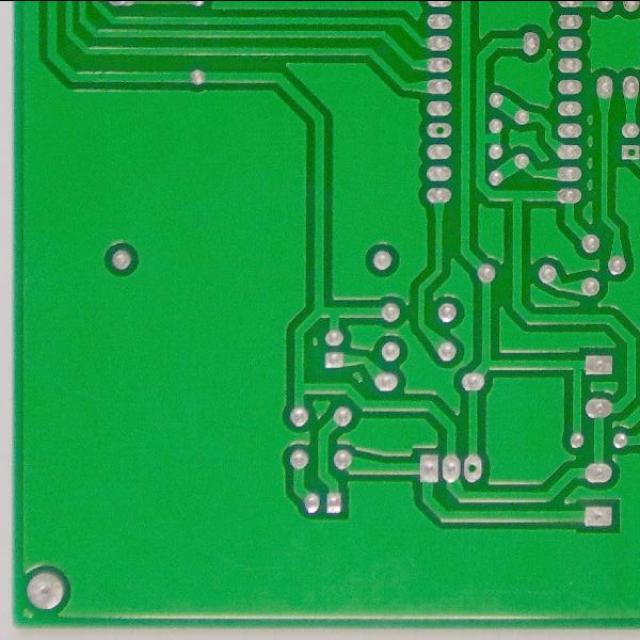Missing_Hole: (462, 454, 485, 484), (424, 118, 454, 140), (618, 140, 640, 162)
